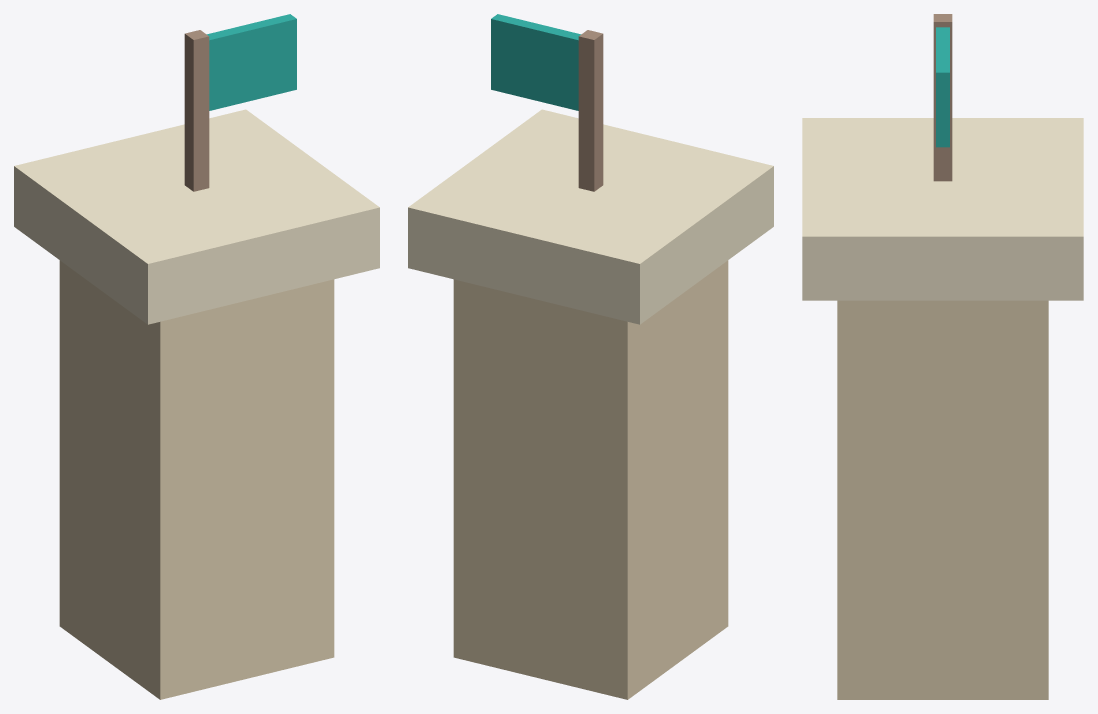
File: tower.gltf
3 renders of one model, left to right at view 1: azimuth 30°, elevation 25°; view 2: azimuth 150°, elevation 25°; view 3: azimuth 270°, elevation 25°, orthographic. The views are drawn at different scales.
Size of the model in its own units: 1.2 by 3 by 1.2.
